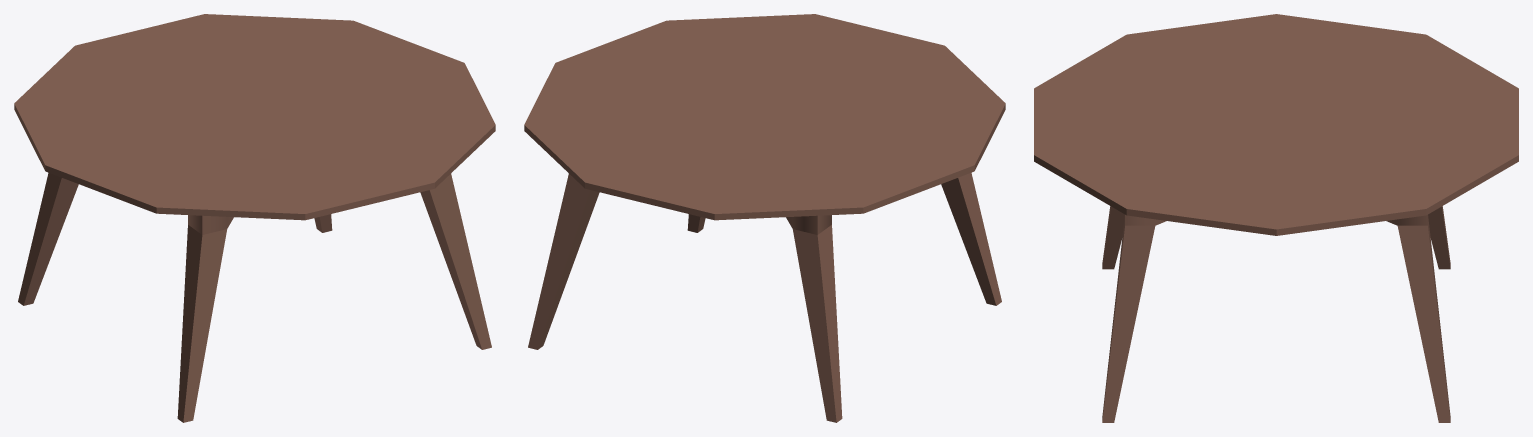
The model's file is table.fbx.
3 views of the same model, side by side, from view 1: azimuth 30°, elevation 25°; view 2: azimuth 150°, elevation 25°; view 3: azimuth 270°, elevation 25° (orthographic). The views are drawn at different scales.
Parts seen in each view (by area): view 1: pCube2; view 2: pCube2; view 3: pCube2.
Boxes of the visible parts, x1,y1,x2,y2 form: pCube2: (14,14,495,422); pCube2: (524,14,1005,422); pCube2: (1034,14,1518,422).
Bounding box in the file's own units: 55.26 × 26.53 × 52.56.
